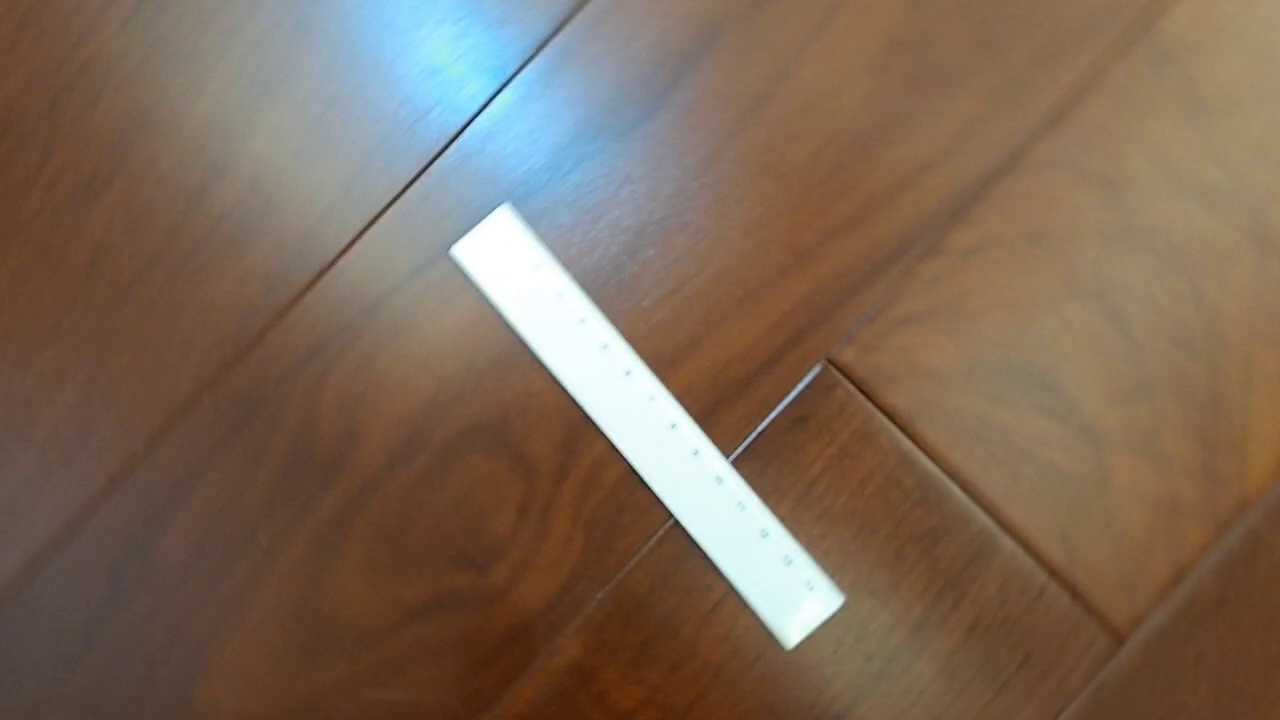ruler: (446, 201, 847, 652)
